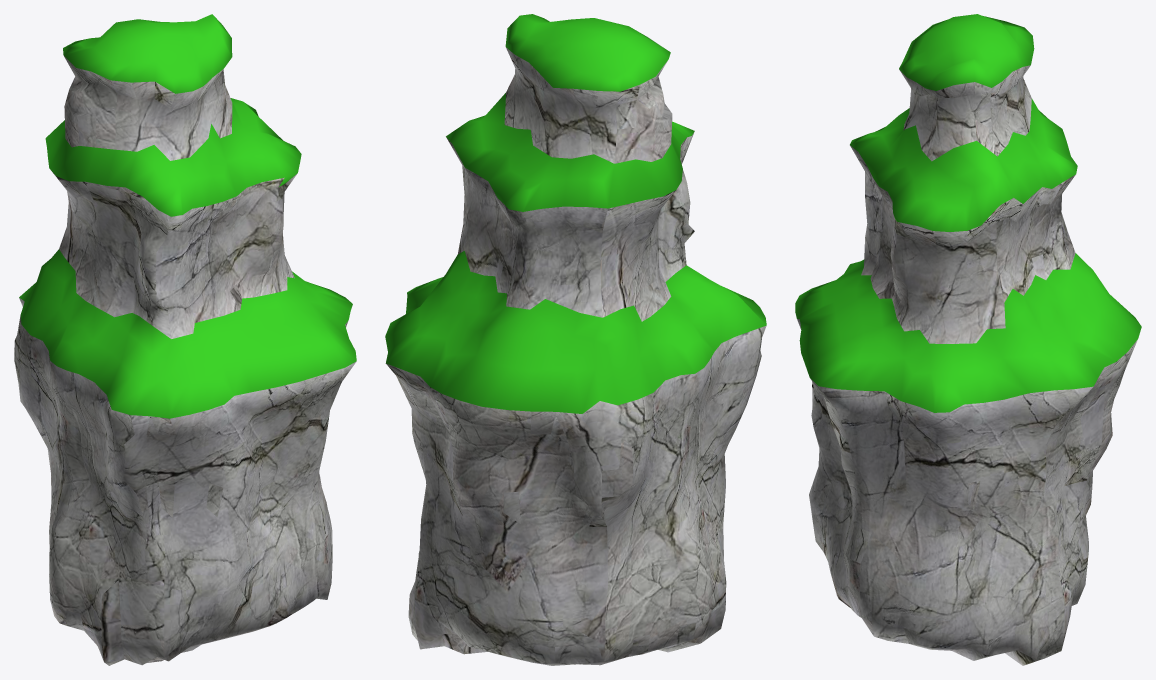
File: SM_RockSpire.FBX
3 renders of one model, left to right at view 1: azimuth 30°, elevation 25°; view 2: azimuth 150°, elevation 25°; view 3: azimuth 270°, elevation 25°, orthographic. The views are drawn at different scales.
Visible parts, largest first — view 1: Spire; view 2: Spire; view 3: Spire.
Part boxes in pixels (x1=…): Spire: x1=14, y1=14, x2=356, y2=665; Spire: x1=385, y1=14, x2=766, y2=665; Spire: x1=795, y1=14, x2=1141, y2=665.
Bounding box in the file's own units: 1089 × 2159 × 1170.
2 materials, 1 textured.
